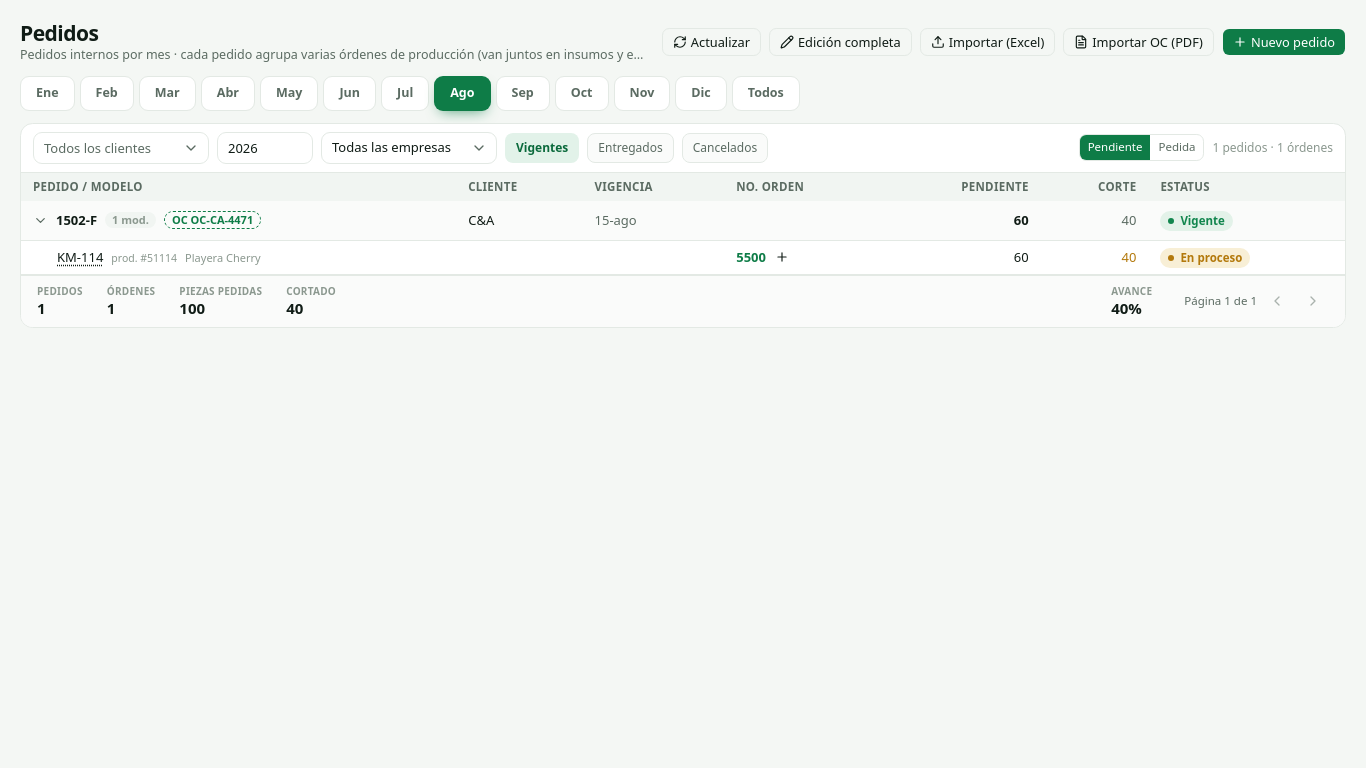
Test: <PedidosMesPagina> › ⭐ la matriz de Generar OP busca colores en servidor, no en una lista precargada
Click the button with test id "pedidos-resurtido".
click(782, 257)  # box [772, 247, 792, 267]
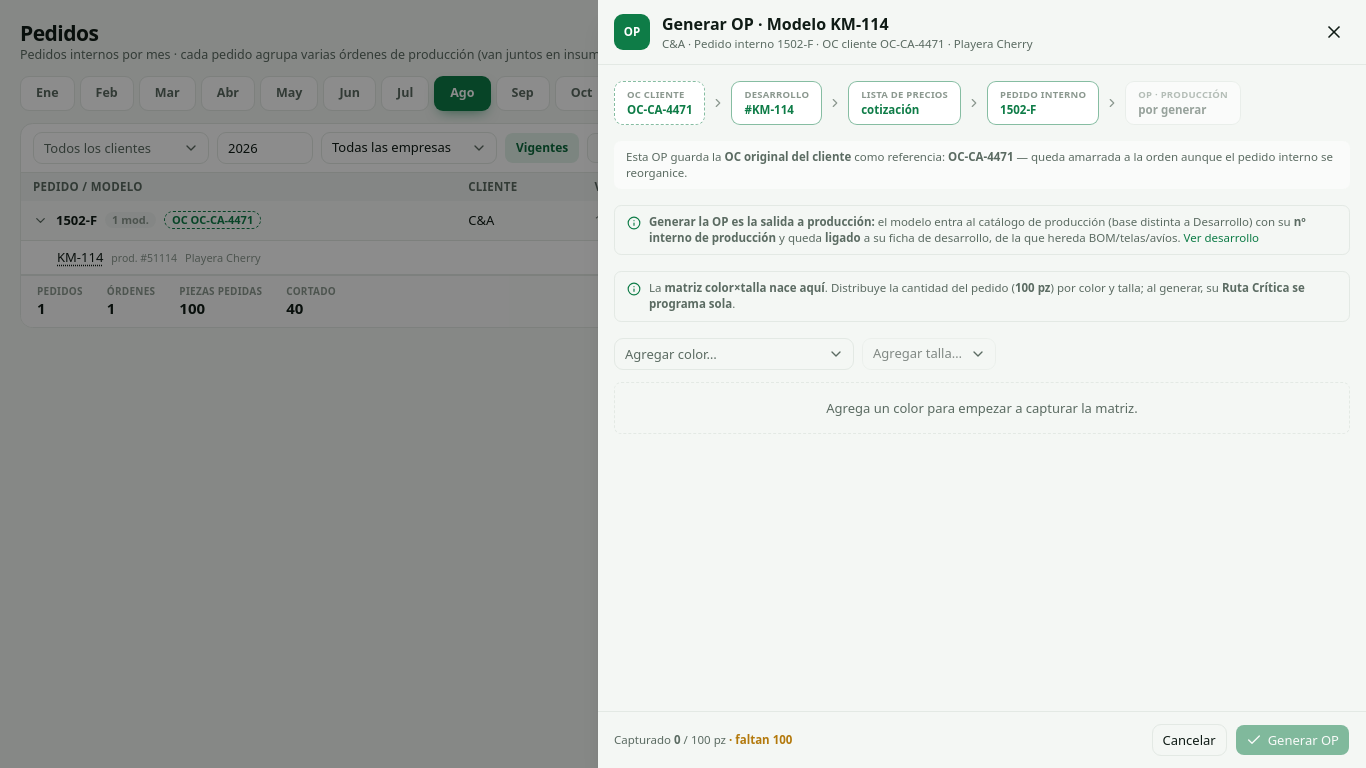
Result: the dialog with test id "panel-generar-op" is shown
Result: the element with test id "matriz-color-al-vuelo" is shown at [614, 338, 854, 370]
